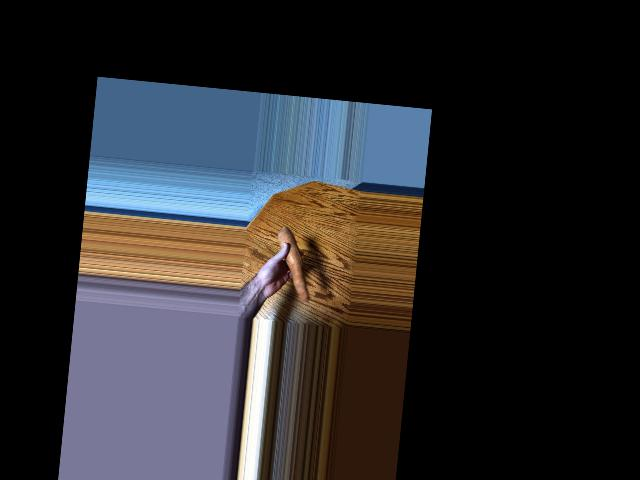sweet_potato: (280, 224, 311, 302)
